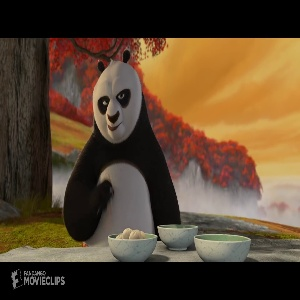po: (69, 49, 182, 246)
